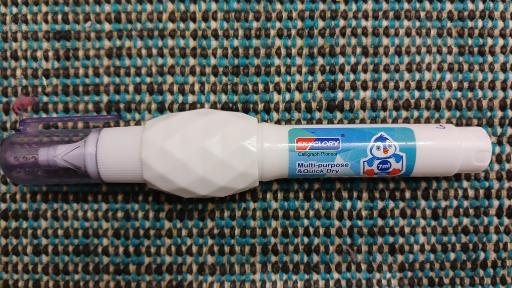Correction pen: (1, 108, 497, 199)
